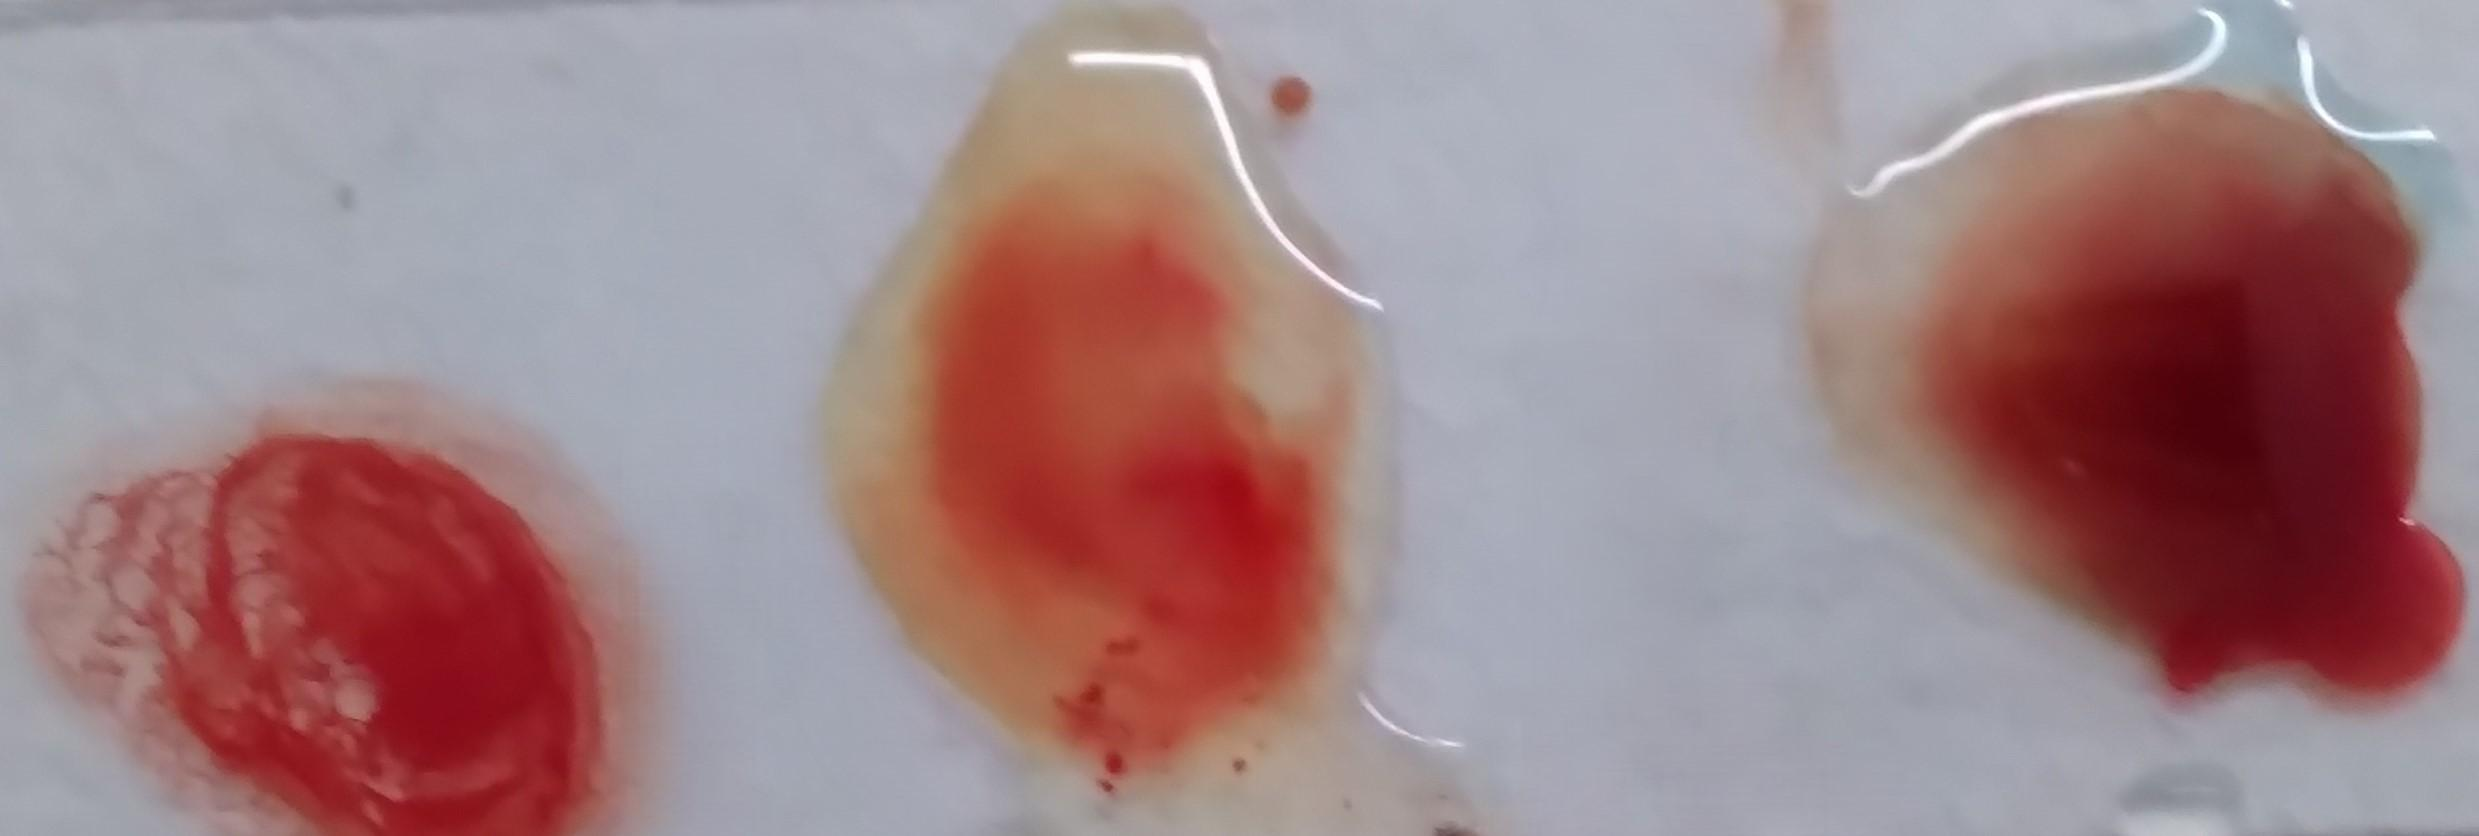D: (82, 411, 591, 836)
